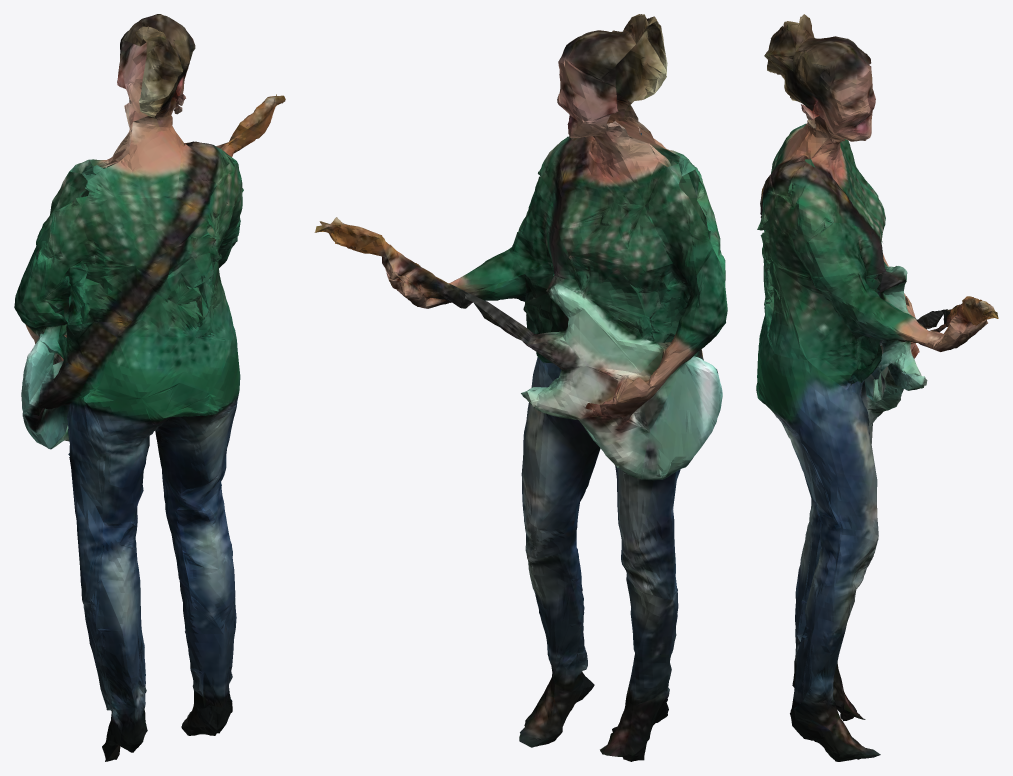
The picture shows the model from 3 angles, left to right: view 1: azimuth 30°, elevation 25°; view 2: azimuth 150°, elevation 25°; view 3: azimuth 270°, elevation 25°; orthographic projection. The views are drawn at different scales.
Parts seen in each view (by area): view 1: dec_0019; view 2: dec_0019; view 3: dec_0019.
Part boxes in pixels (x1=…): dec_0019: x1=14, y1=14, x2=285, y2=761; dec_0019: x1=314, y1=14, x2=727, y2=761; dec_0019: x1=756, y1=14, x2=998, y2=761.
Size of the model in its own units: 0.8295 by 1.74 by 0.5394.
Materials: 1 (1 with a texture image).
